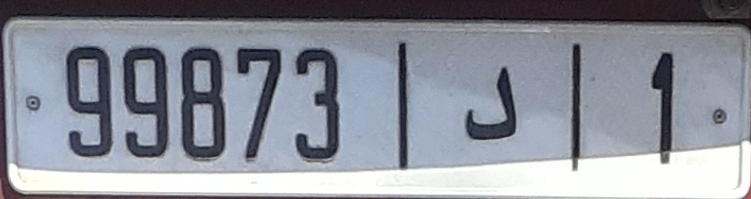1: (646, 49, 680, 166)
3: (290, 44, 345, 163)
7: (234, 42, 285, 165)
8: (176, 43, 228, 165)
9: (120, 42, 170, 164), (63, 42, 114, 161)
d: (461, 65, 521, 144)
